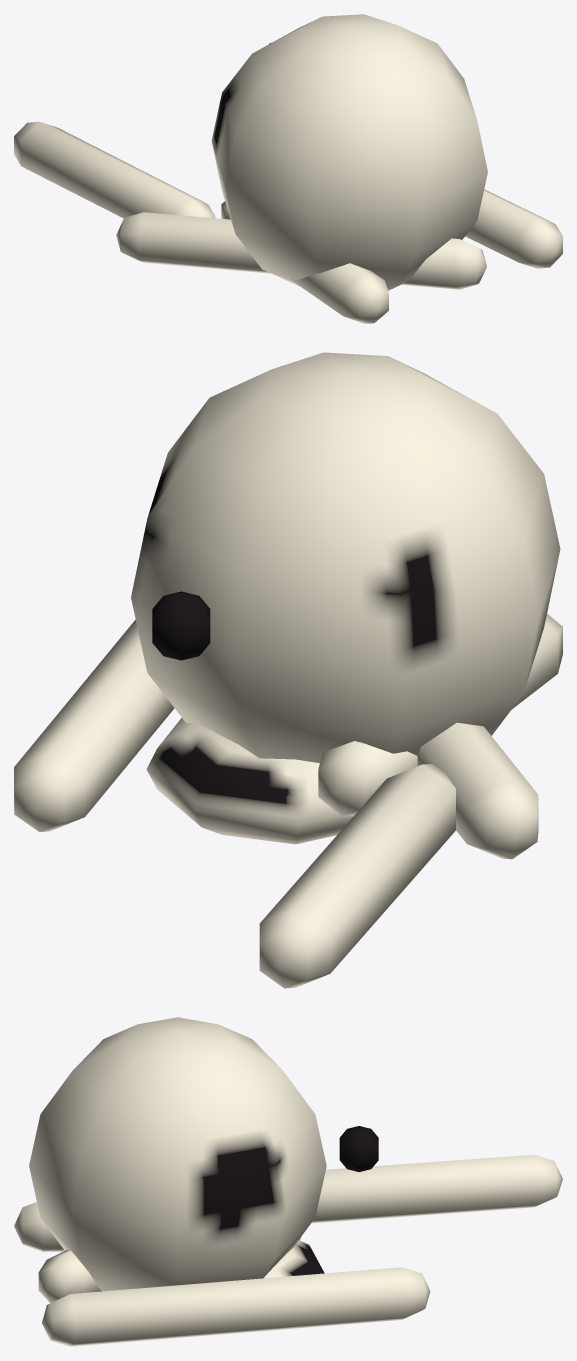
Rendered from prop_bones0_7ccc.glb.
The picture shows the model from 3 angles, top to bottom: view 1: azimuth 30°, elevation 25°; view 2: azimuth 150°, elevation 25°; view 3: azimuth 270°, elevation 25°; orthographic projection. The views are drawn at different scales.
Parts seen in each view (by area): view 1: prop_bones0_7ccc; view 2: prop_bones0_7ccc; view 3: prop_bones0_7ccc.
Boxes of the visible parts, left/top/right/bottom form: prop_bones0_7ccc: left=14, top=14, right=562, bottom=323; prop_bones0_7ccc: left=14, top=352, right=562, bottom=988; prop_bones0_7ccc: left=14, top=1017, right=562, bottom=1346.
Bounding box in the file's own units: 0.4863 × 0.3756 × 0.6683.
1 material, 1 textured.
